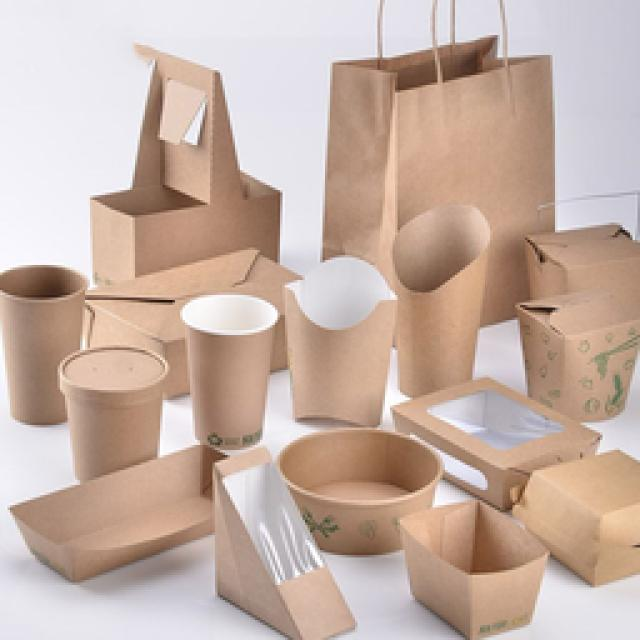cardboard: (322, 36, 640, 640), (0, 205, 491, 582), (83, 41, 303, 399), (213, 428, 444, 640)
